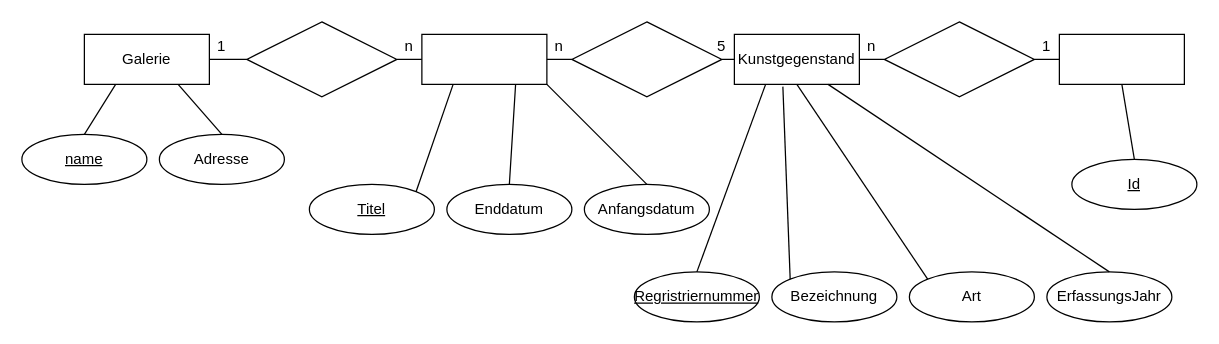
This 1219x344 diagram has some shape labels left out. Here are the shapes that lost their labels. From the top down, the box of each, then its label:
(246, 21, 397, 97): kann
(421, 33, 547, 84): Austellung
(571, 21, 722, 97): besitzen
(883, 21, 1034, 97): wurde von ... gemalt
(1058, 33, 1184, 84): Künstler
